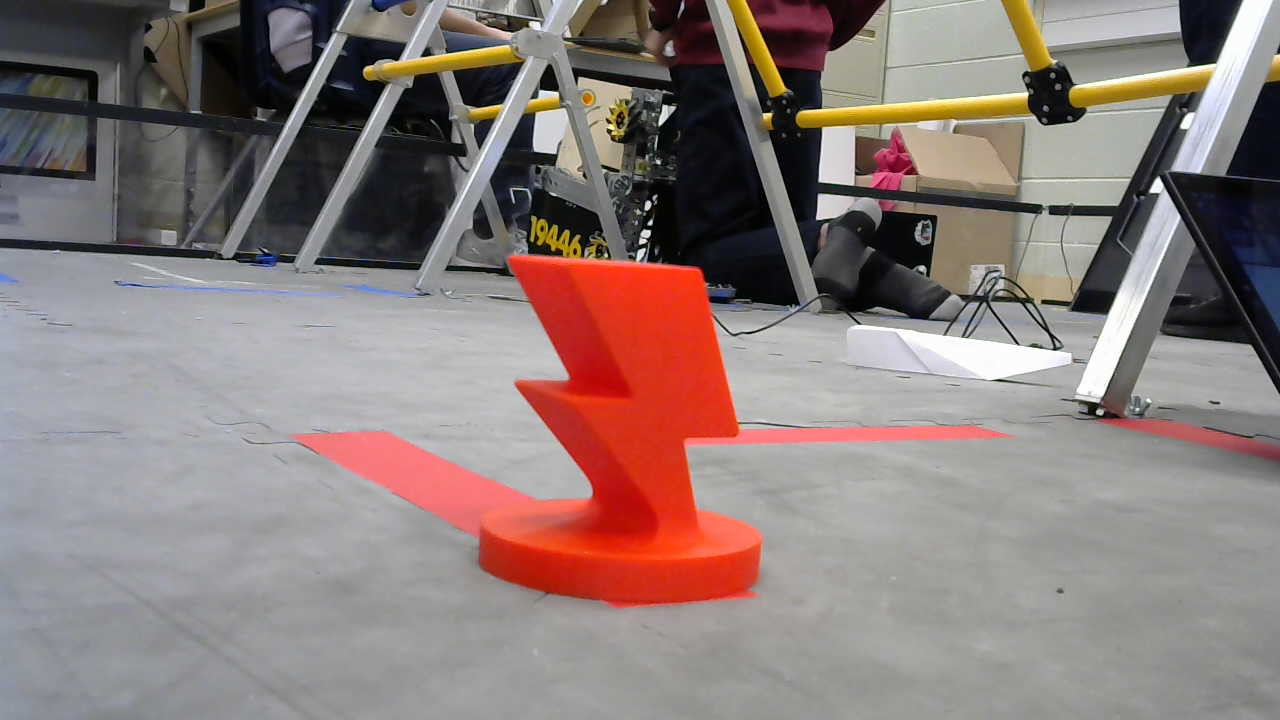redobject: (470, 252, 764, 605)
